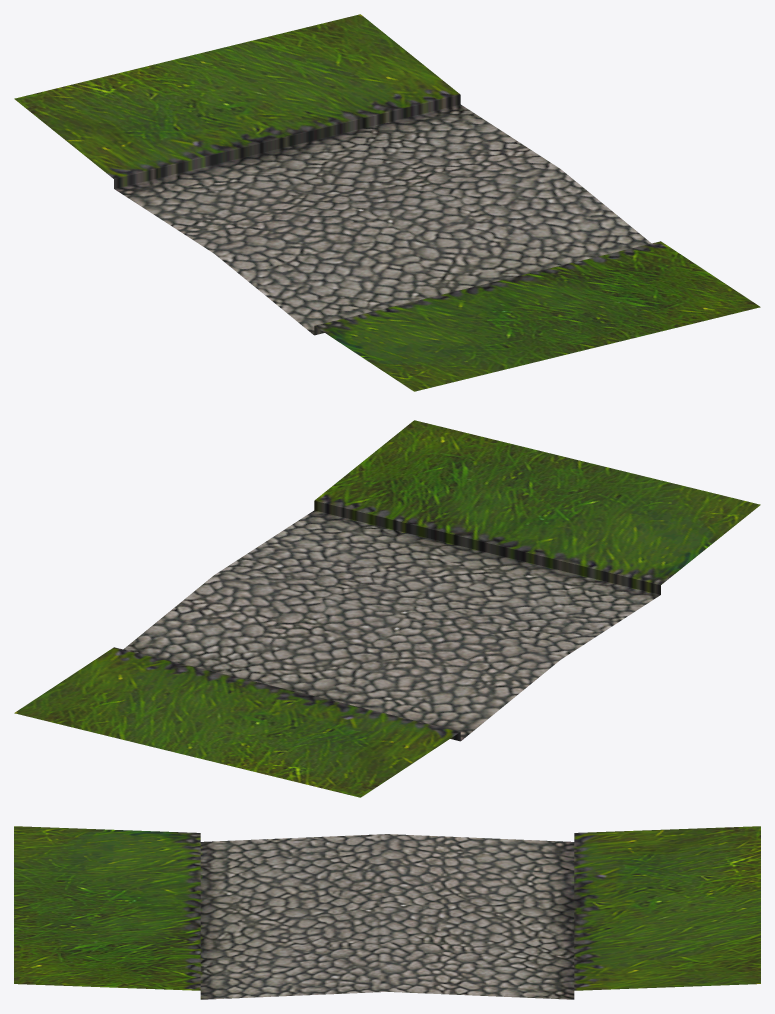
File: badroad_Straße_Gerade2 [Grün]_2353.glb
3 views of the same model, one above another, from view 1: azimuth 30°, elevation 25°; view 2: azimuth 150°, elevation 25°; view 3: azimuth 270°, elevation 25° (orthographic). The views are drawn at different scales.
Visible parts, largest first — view 1: pPlaneShape168; view 2: pPlaneShape168; view 3: pPlaneShape168.
Boxes of the visible parts, box(x1,y1,x2,y2) form: pPlaneShape168: box(14, 14, 760, 391); pPlaneShape168: box(14, 420, 760, 797); pPlaneShape168: box(14, 826, 760, 999).
Bounding box in the file's own units: 1 × 0.0467 × 2.
1 material, 1 textured.
